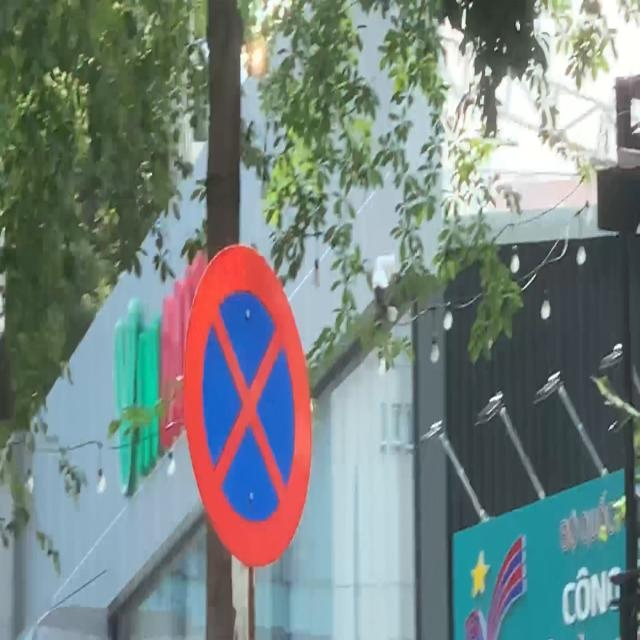bien_cam: (183, 243, 313, 567)
